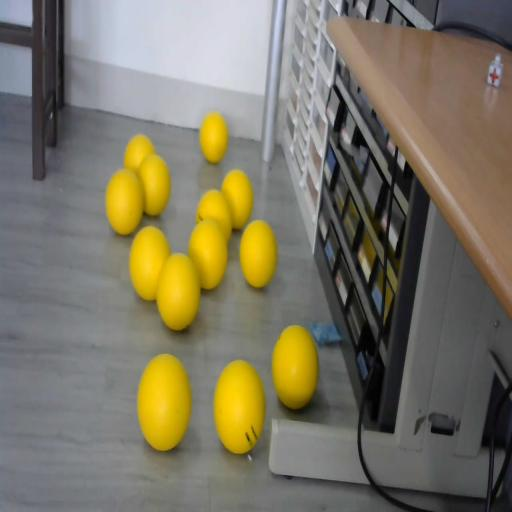FUEL: (136, 352, 191, 450), (212, 358, 266, 454), (272, 324, 320, 409), (128, 226, 170, 300), (188, 218, 228, 290), (238, 218, 278, 288), (106, 168, 144, 234), (138, 153, 171, 217), (220, 169, 254, 230), (199, 112, 228, 162)
